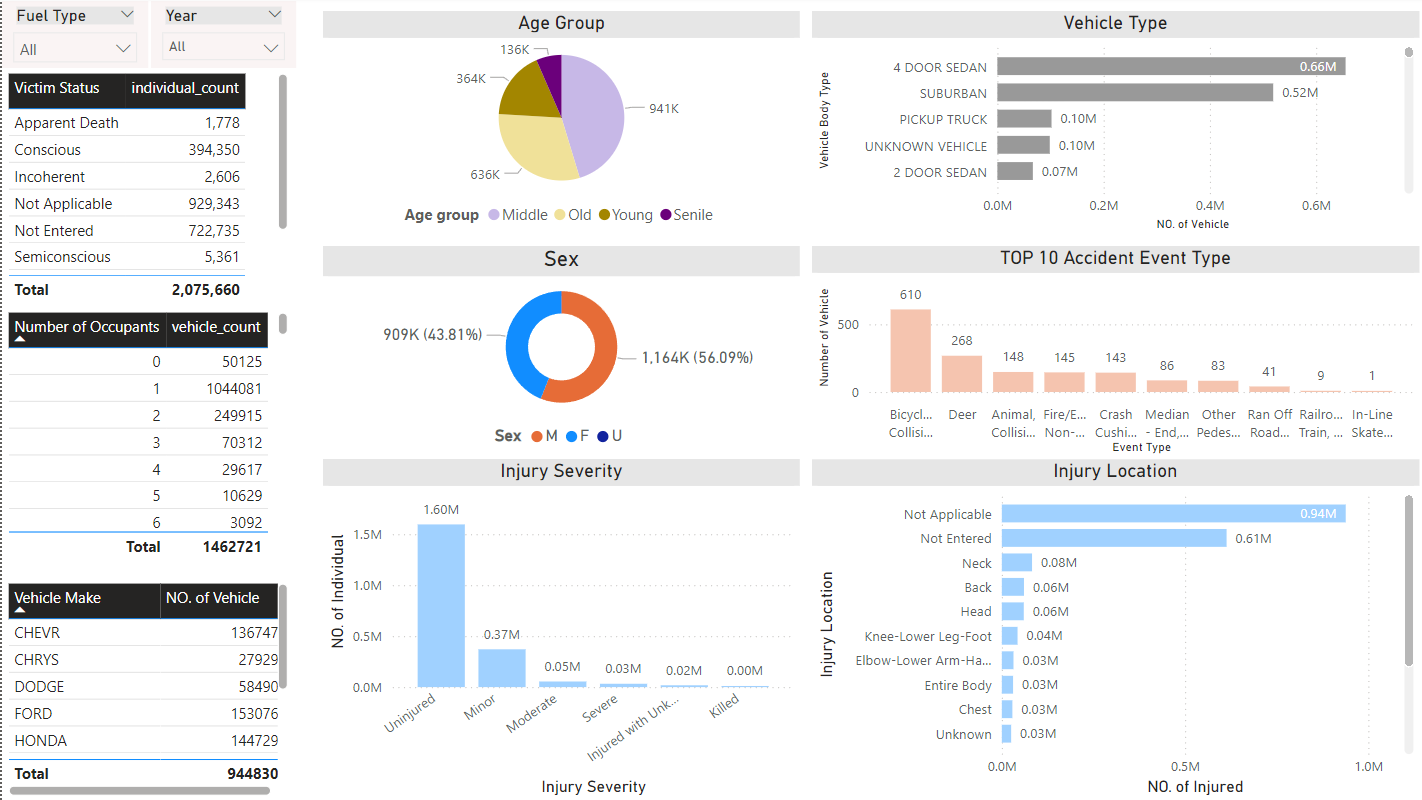

This screenshot's page, from the dashboard's own definition file:
{"tool":"powerbi","page":{"name":"Page 1","canvas":[1280,720],"ordinal":0},"visuals":[{"type":"pieChart","title":"Age Group","fields":{"Category":["Individual.age group"],"Y":["Individual.individual_count"]},"box":[266.6,0,373,280],"z":0},{"type":"slicer","fields":{"Values":["Years.Year"]},"box":[0,0,209.1,70.9],"z":1000},{"type":"donutChart","title":"Sex","fields":{"Category":["Individual.Sex"],"Y":["Individual.individual_count"]},"box":[0,140.6,266.6,273.9],"z":2000},{"type":"clusteredColumnChart","title":"Injury Severity","fields":{"Category":["Individual.Injury Severity"],"Y":["CountNonNull(Individual.new_individual_id)"]},"box":[277.6,280,362,440.2],"z":3000},{"type":"clusteredBarChart","title":"Injury Location","fields":{"Category":["Individual.Injury Location"],"Y":["CountNonNull(Individual.Injury Severity)"]},"box":[650.5,280,629.8,440.2],"z":4000},{"type":"clusteredBarChart","title":"Vehicle Type","fields":{"Category":["Vehicle information.Vehicle Body Type"],"Y":["CountNonNull(Vehicle information.Case Vehicle ID)"]},"box":[650.5,0,629.8,280],"z":5000},{"type":"tableEx","fields":{"Values":["Vehicle information.Vehicle Make","CountNonNull(Vehicle information.Case Vehicle ID)"]},"box":[0,446.3,266.6,273.9],"z":6000},{"type":"slicer","fields":{"Values":["Vehicle information.Fuel Type"]},"box":[0,67.3,209.1,69.7],"z":7000}]}

Visuals, with their boxes in screenshot pixels (x1, y1, x2, y2), scaled from the page's 1280x720 canvas onto the 1422x800 screenshot:
"Age Group" pieChart: select_region(296, 0, 711, 311)
slicer - Years.Year: select_region(0, 0, 232, 79)
"Sex" donutChart: select_region(0, 156, 296, 461)
"Injury Severity" clusteredColumnChart: select_region(308, 311, 711, 799)
"Injury Location" clusteredBarChart: select_region(723, 311, 1421, 799)
"Vehicle Type" clusteredBarChart: select_region(723, 0, 1421, 311)
tableEx - Vehicle information.Vehicle Make x CountNonNull(Vehicle information.Case Vehicle ID): select_region(0, 496, 296, 799)
slicer - Vehicle information.Fuel Type: select_region(0, 75, 232, 152)
